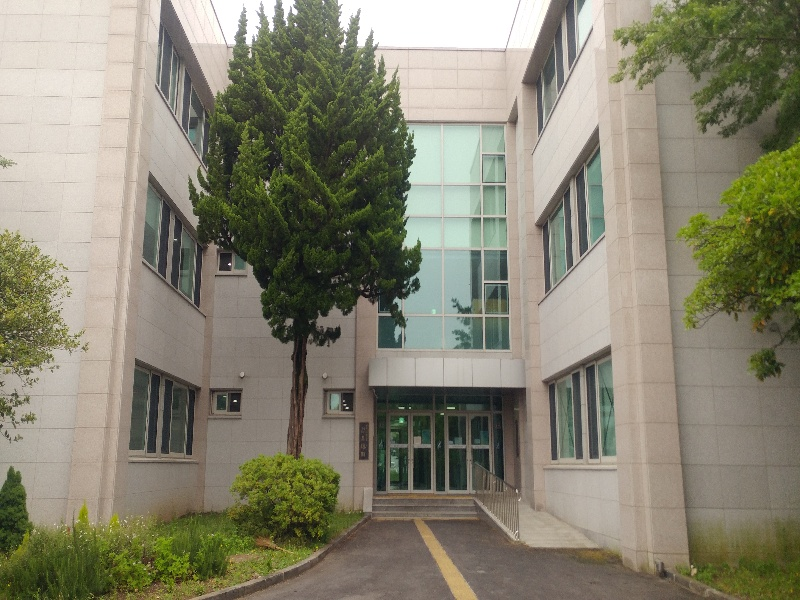College of Nursing: (357, 33, 526, 523), (356, 380, 526, 520)
